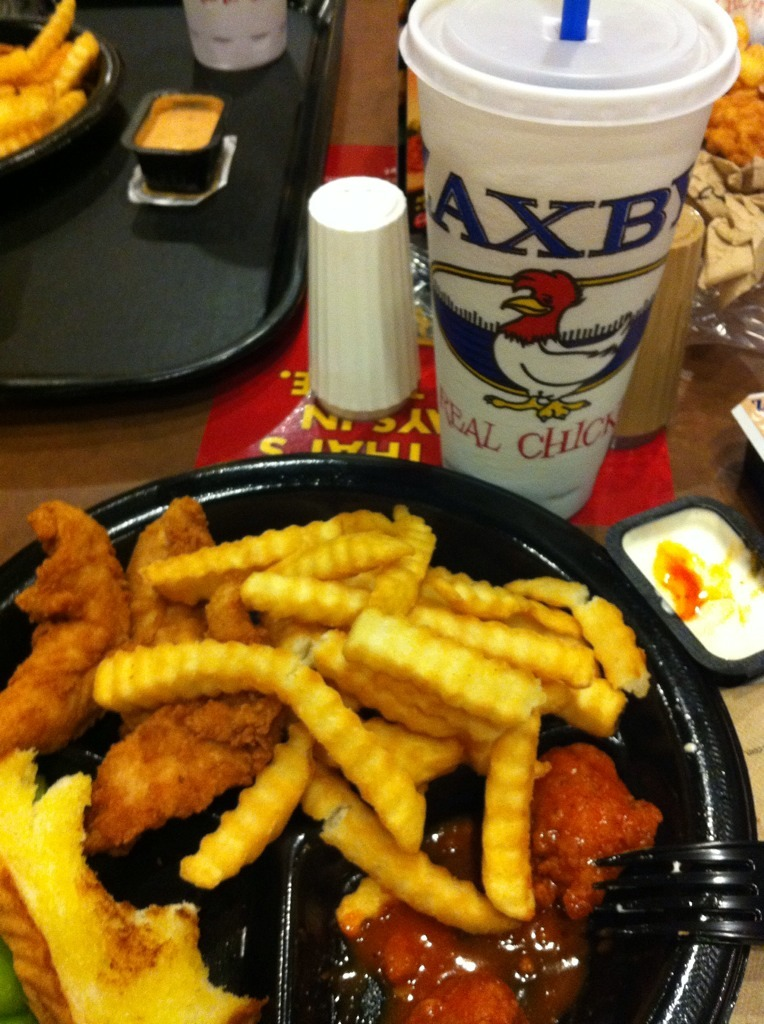French fries: (52, 492, 651, 984), (0, 0, 101, 154)
